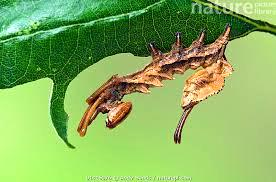Lobster Moth: (75, 24, 243, 147)
